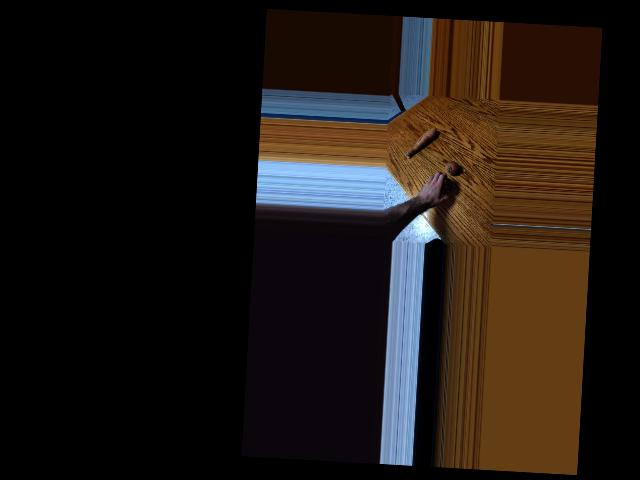onion: (439, 177, 451, 193)
